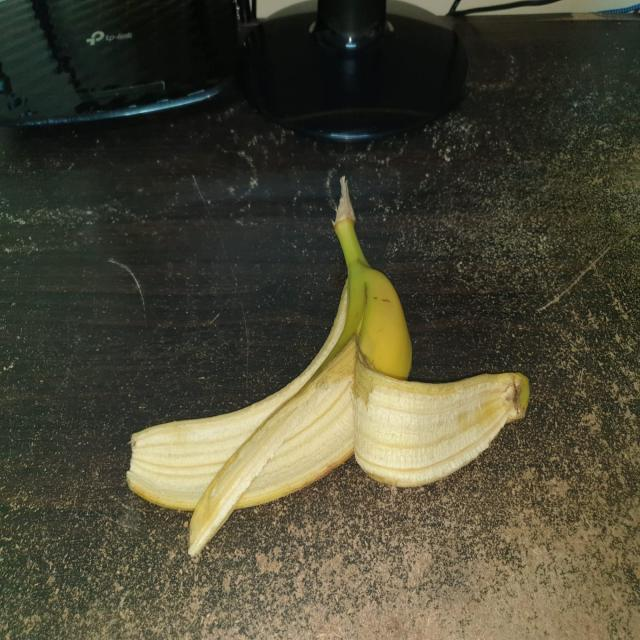banana-peel: (125, 174, 530, 557)
